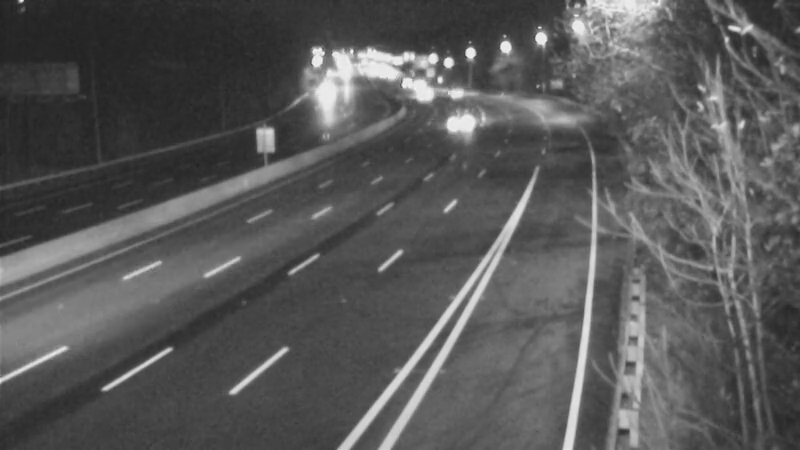vehicle: (431, 61, 481, 111), (399, 68, 449, 118), (426, 97, 476, 147), (295, 70, 345, 120)
